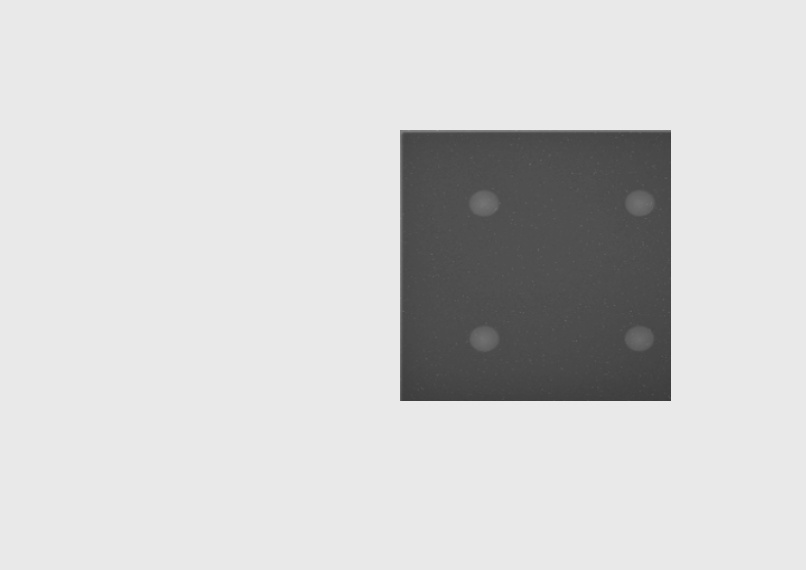bubble: (467, 189, 499, 217), (467, 325, 499, 351), (624, 325, 654, 352), (623, 190, 654, 215)
